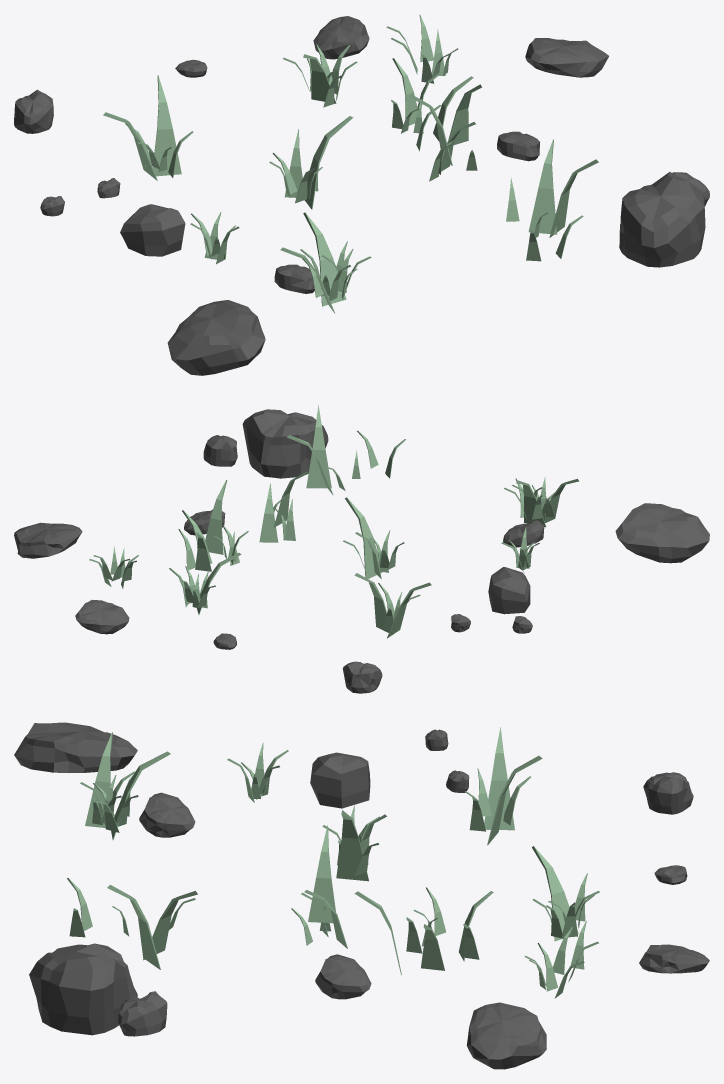
File: FoliageAll_01.FBX
The picture shows the model from 3 angles, top to bottom: view 1: azimuth 30°, elevation 25°; view 2: azimuth 150°, elevation 25°; view 3: azimuth 270°, elevation 25°; orthographic projection. The views are drawn at different scales.
Visible parts, largest first — view 1: Foliage_All_01; view 2: Foliage_All_01; view 3: Foliage_All_01.
Boxes of the visible parts, x1,y1,x2,y2 form: Foliage_All_01: (14, 14, 709, 375); Foliage_All_01: (14, 404, 709, 693); Foliage_All_01: (14, 722, 709, 1069).
Size of the model in its own units: 357 by 58.04 by 312.
